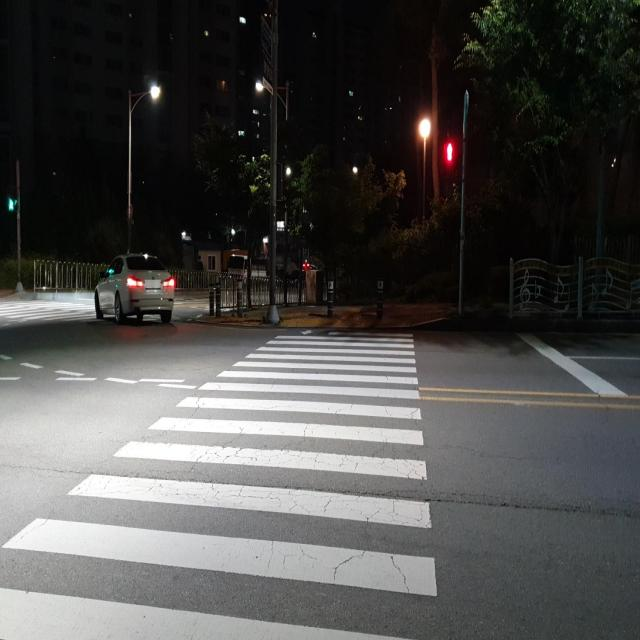빨간불: (440, 138, 456, 198)
횡단보도: (0, 323, 441, 640)
